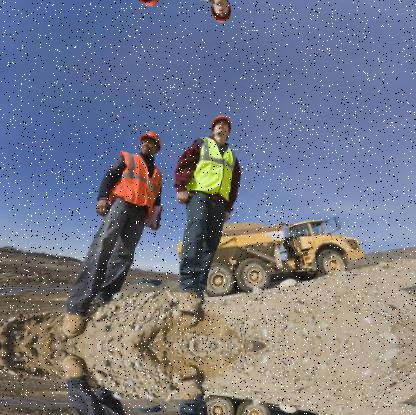helmet: (139, 128, 165, 155), (210, 111, 233, 141), (210, 0, 234, 26), (138, 0, 165, 9)
